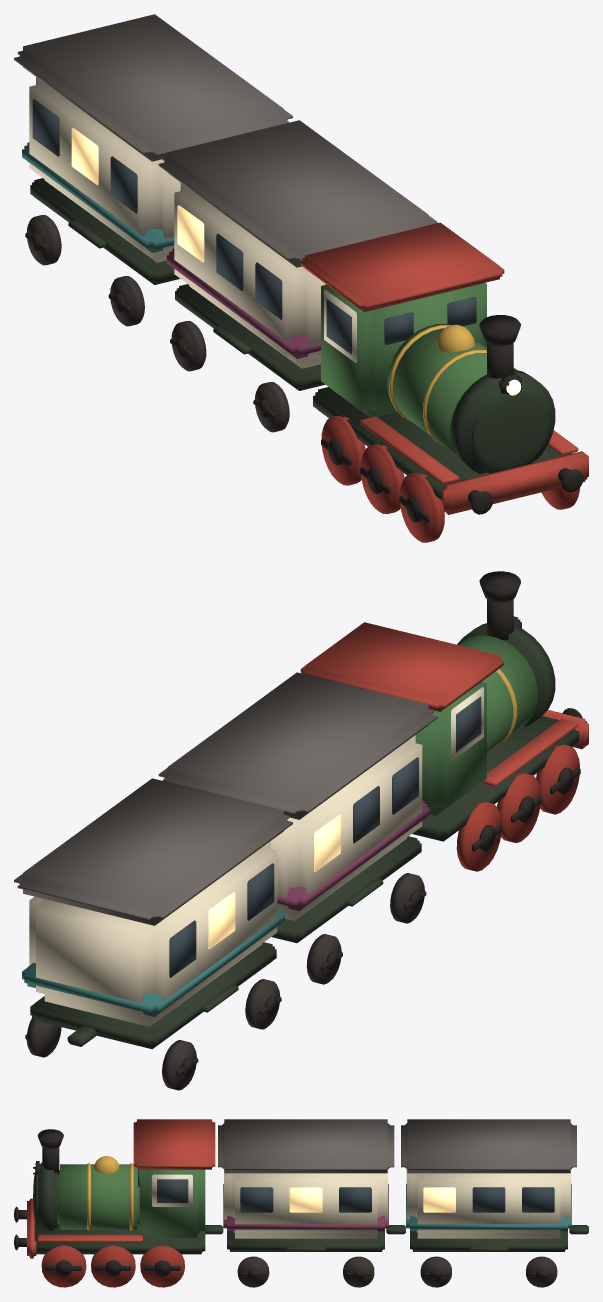
File: train.glb
The picture shows the model from 3 angles, top to bottom: view 1: azimuth 30°, elevation 25°; view 2: azimuth 150°, elevation 25°; view 3: azimuth 270°, elevation 25°; orthographic projection. The views are drawn at different scales.
Visible parts, largest first — view 1: Train.Felt.Roof, Train.Felt.EngineDark, Train.Felt.Red, Train.Felt.Engine, Train.Car1.Body, Train.Car2.Body, Train.Felt.Window, Train.Felt.Funnel, Train.Axle.0.Felt.Wheel, Train.Felt.WindowWarm, Train.Felt.Brass, Train.Axle.1.Felt.Wheel (+8 smaller); view 2: Train.Felt.Roof, Train.Car2.Body, Train.Felt.EngineDark, Train.Felt.Red, Train.Car1.Body, Train.Felt.Engine, Train.Felt.Window, Train.Car2.Band, Train.Felt.WindowWarm, Train.Felt.Funnel, Train.Axle.6.Felt.CarWheel, Train.Axle.2.Felt.Wheel (+7 smaller); view 3: Train.Felt.Roof, Train.Felt.EngineDark, Train.Felt.Engine, Train.Car2.Body, Train.Car1.Body, Train.Felt.Red, Train.Felt.Window, Train.Felt.WindowWarm, Train.Car1.Band, Train.Car2.Band, Train.Axle.0.Felt.Wheel, Train.Axle.1.Felt.Wheel (+11 smaller).
Part boxes in pixels (box(x1,y1,x2,y2)): Train.Felt.Roof: box(14, 14, 437, 267); Train.Felt.EngineDark: box(30, 178, 572, 500); Train.Felt.Red: box(300, 222, 588, 514); Train.Felt.Engine: box(321, 283, 516, 453); Train.Car1.Body: box(174, 183, 325, 368); Train.Car2.Body: box(29, 77, 180, 262); Train.Felt.Window: box(32, 99, 476, 354); Train.Felt.Funnel: box(468, 315, 583, 514); Train.Axle.0.Felt.Wheel: box(399, 473, 579, 542); Train.Felt.WindowWarm: box(71, 127, 204, 262); Train.Felt.Brass: box(389, 324, 486, 446); Train.Axle.1.Felt.Wheel: box(360, 444, 404, 514); Train.Felt.Roof: box(14, 672, 437, 925); Train.Car2.Body: box(29, 841, 277, 1026); Train.Felt.EngineDark: box(30, 623, 579, 1049); Train.Felt.Red: box(300, 622, 588, 786); Train.Car1.Body: box(271, 735, 422, 920); Train.Felt.Engine: box(415, 635, 537, 815); Train.Felt.Window: box(169, 696, 481, 977); Train.Car2.Band: box(22, 906, 284, 1016); Train.Felt.WindowWarm: box(208, 814, 340, 949); Train.Felt.Funnel: box(479, 571, 582, 718); Train.Axle.6.Felt.CarWheel: box(26, 1018, 196, 1090); Train.Axle.2.Felt.Wheel: box(456, 801, 501, 871); Train.Felt.Roof: box(218, 1119, 576, 1173); Train.Felt.EngineDark: box(33, 1162, 588, 1254); Train.Felt.Engine: box(57, 1164, 205, 1237); Train.Car2.Body: box(406, 1169, 571, 1238); Train.Car1.Body: box(224, 1169, 388, 1238); Train.Felt.Red: box(27, 1119, 215, 1258); Train.Felt.Window: box(138, 1169, 554, 1212); Train.Felt.WindowWarm: box(289, 1187, 455, 1212); Train.Car1.Band: box(223, 1184, 388, 1231); Train.Car2.Band: box(406, 1184, 571, 1231); Train.Axle.0.Felt.Wheel: box(41, 1245, 86, 1287); Train.Axle.1.Felt.Wheel: box(91, 1245, 135, 1287).
Size of the model in its own units: 1.72 by 2.2 by 8.74.
